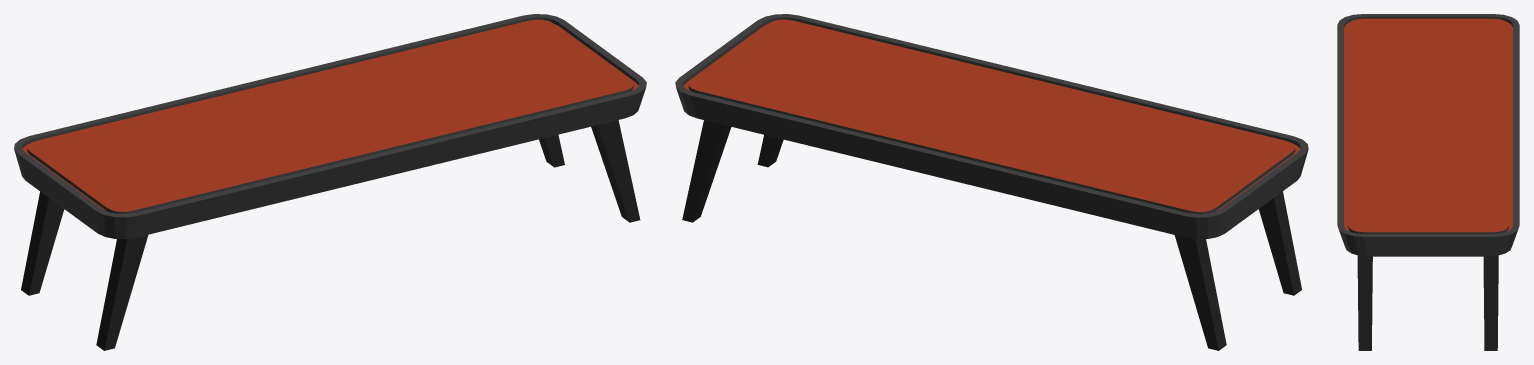
File: CTable_2.fbx
3 views of the same model, side by side, from view 1: azimuth 30°, elevation 25°; view 2: azimuth 150°, elevation 25°; view 3: azimuth 270°, elevation 25° (orthographic). The views are drawn at different scales.
Parts seen in each view (by area): view 1: CTable_2; view 2: CTable_2; view 3: CTable_2.
Part boxes in pixels (x1,y1,x2,y2): CTable_2: (14, 14, 646, 350); CTable_2: (675, 14, 1308, 350); CTable_2: (1337, 14, 1519, 350).
Size of the model in its own units: 217 by 52.86 by 75.
